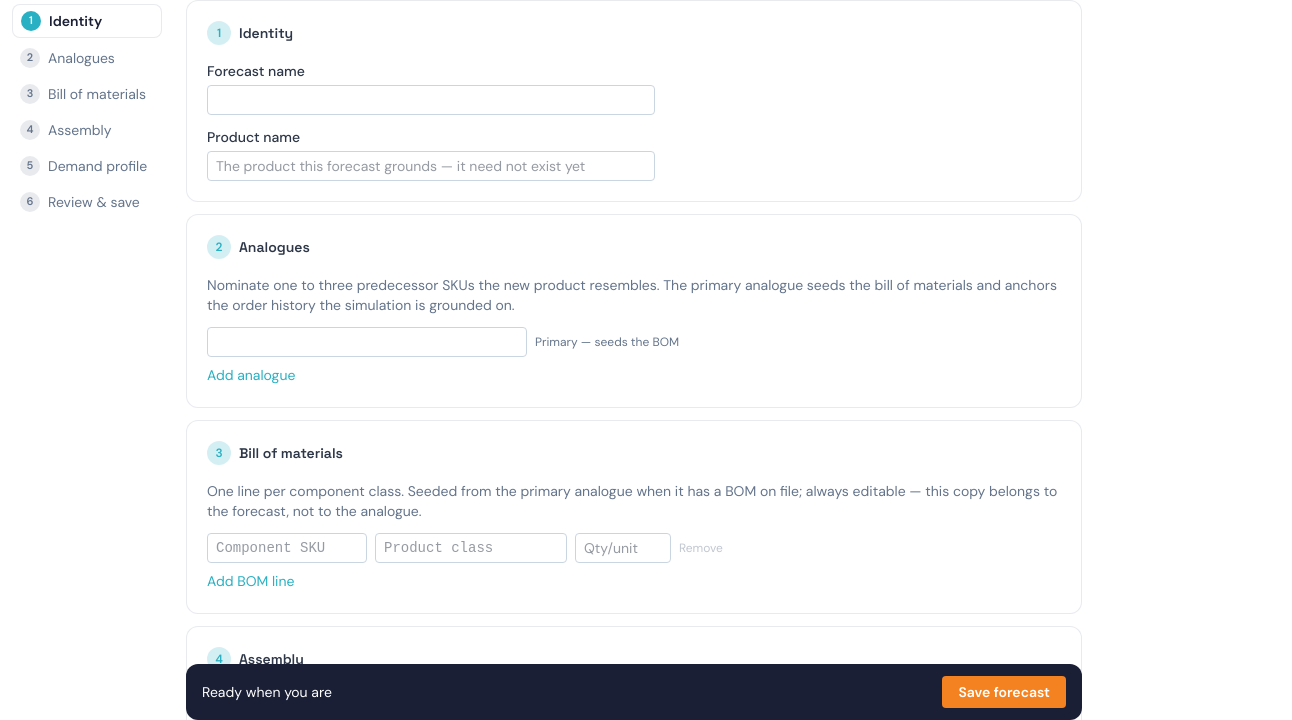
Test: <ForecastWizard> › fetches the bom-seed when the primary analogue is set and populates the BOM rows
This screenshot has width=1292, height=720.
Type "A1000-BLK" into the field named "Primary analogue SKU".
click(367, 342); type("A1000-BLK")  # box [207,327,527,357]
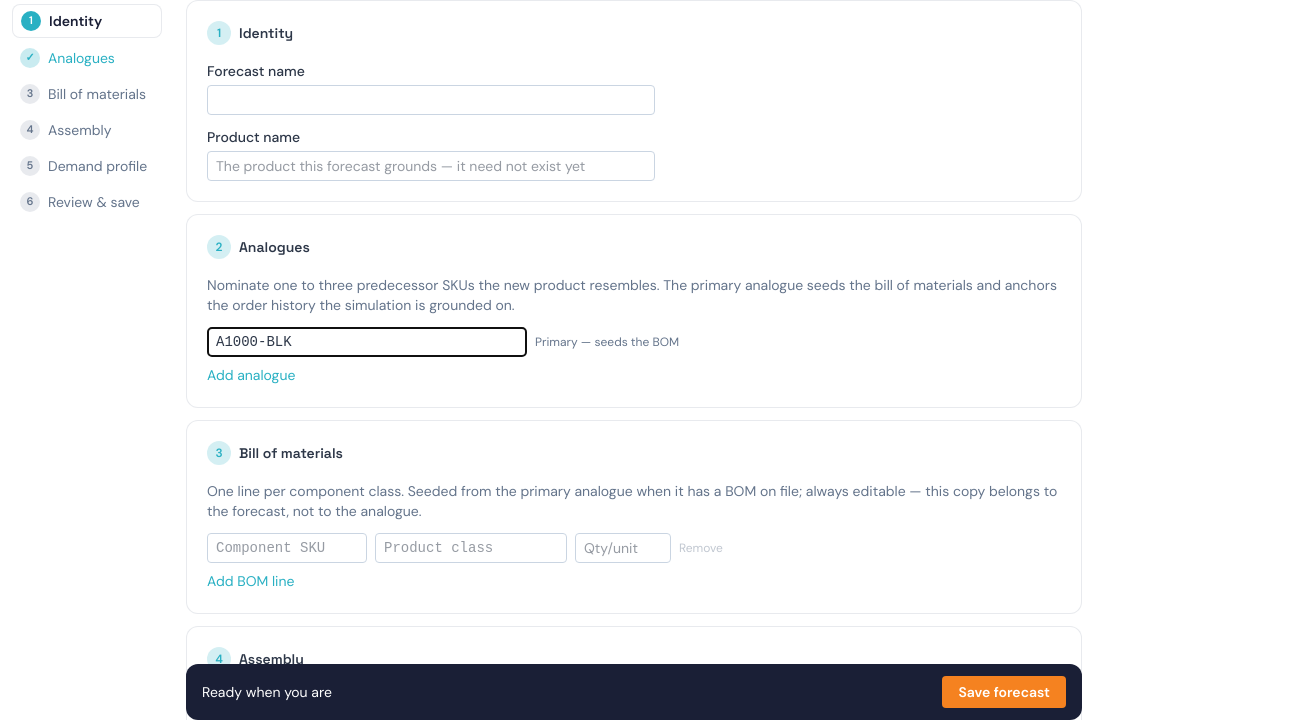
Press Tab
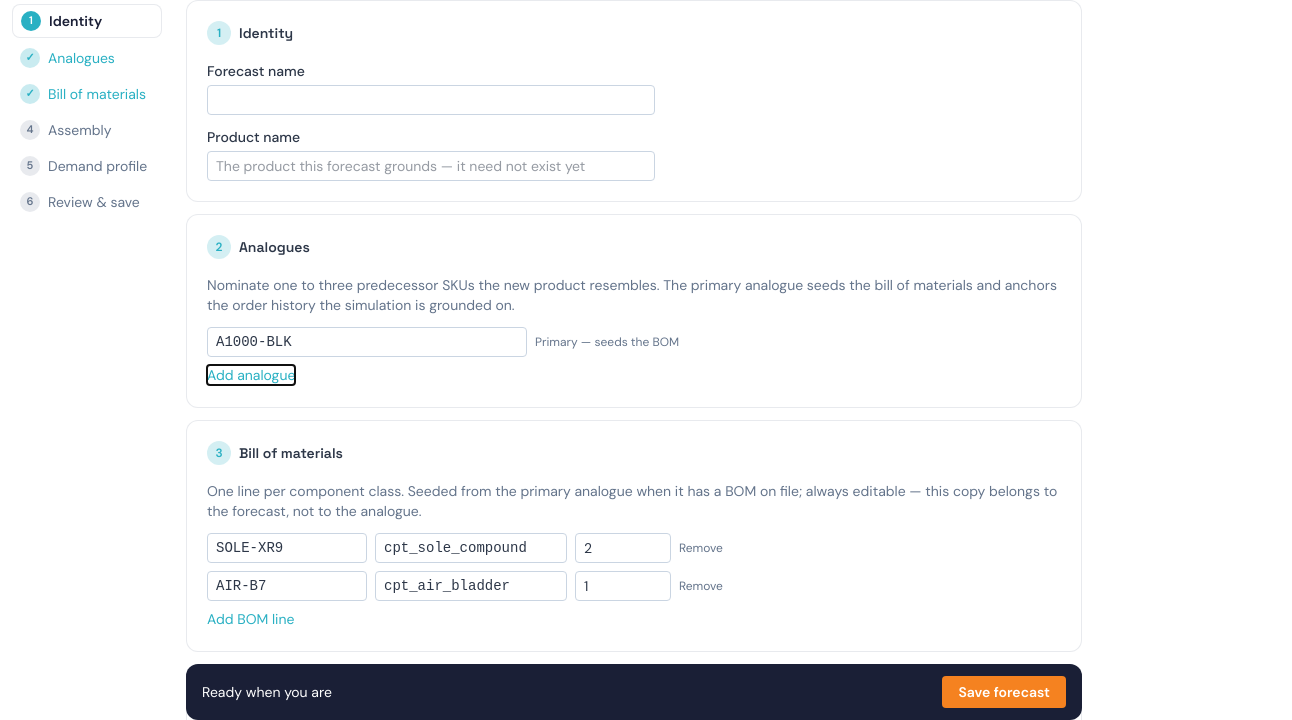
Now the field named "Component SKU 1" holds "SOLE-XR9", box [207,533,367,563]
Now the field named "Product class 1" holds "cpt_sole_compound", box [375,533,567,563]
Now the number field named "Qty per unit 1" holds "2", box [575,533,671,563]
